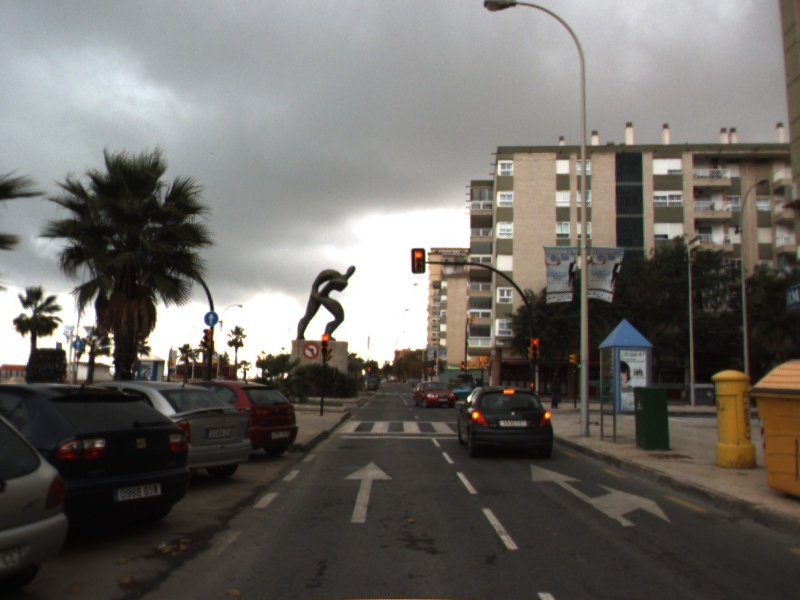STRAIGHT: (342, 459, 395, 525)
STRAIGHT_RIGHT: (528, 462, 676, 527)
